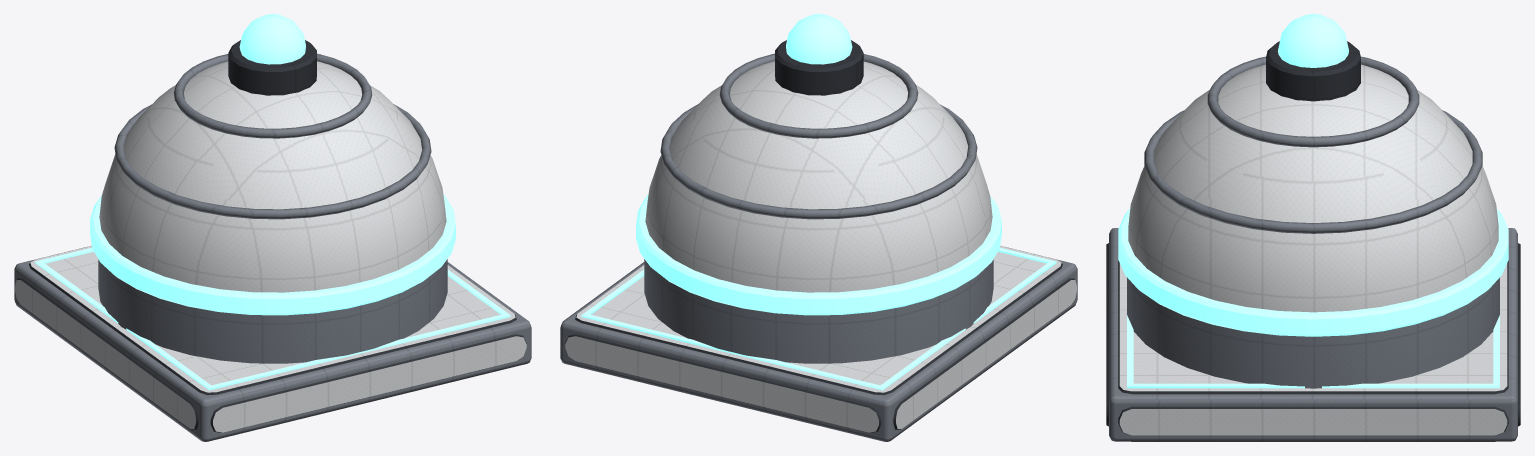
The model's file is R4X_PersonalShield.glb.
3 views of the same model, side by side, from view 1: azimuth 30°, elevation 25°; view 2: azimuth 150°, elevation 25°; view 3: azimuth 270°, elevation 25° (orthographic). The views are drawn at different scales.
Parts seen in each view (by area): view 1: R4X_PersonalShield_Body; view 2: R4X_PersonalShield_Body; view 3: R4X_PersonalShield_Body.
Part boxes in pixels (x1,y1,x2,y2): R4X_PersonalShield_Body: (14,14,531,441); R4X_PersonalShield_Body: (560,14,1077,441); R4X_PersonalShield_Body: (1106,14,1520,441).
Size of the model in its own units: 0.52 by 0.475 by 0.52.
4 materials, 3 textured.
